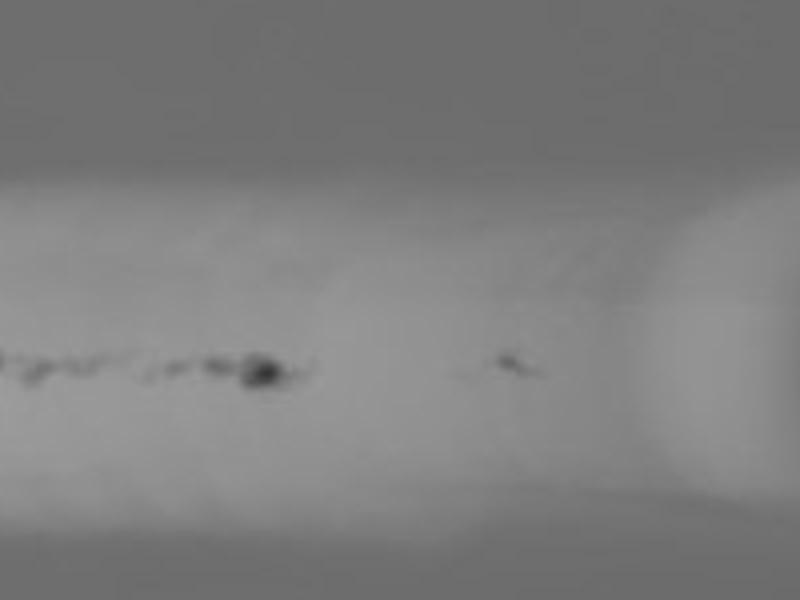defect: (239, 351, 284, 387), (490, 349, 531, 381), (61, 350, 105, 378), (19, 359, 57, 389), (206, 350, 237, 379), (163, 355, 193, 378), (140, 362, 163, 387)
